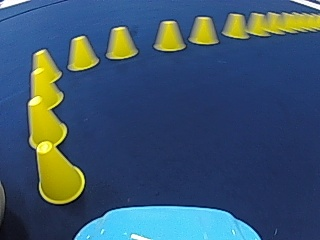cone: (34, 141, 84, 202), (27, 47, 63, 108), (25, 96, 67, 146), (66, 34, 98, 70), (105, 25, 137, 60), (153, 20, 185, 51), (188, 15, 218, 45), (222, 12, 247, 38), (246, 12, 267, 36), (265, 11, 280, 33)
